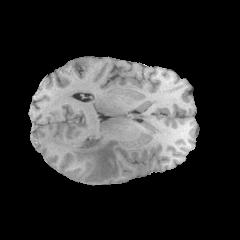glioma: (65, 136, 119, 182)
